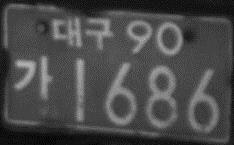0: (156, 20, 184, 57)
1: (72, 55, 87, 123)
6: (104, 60, 140, 127), (186, 66, 221, 133)
8: (143, 62, 179, 129)
9: (125, 18, 152, 56)
가: (12, 53, 54, 104)
대구_O: (50, 13, 113, 51)
